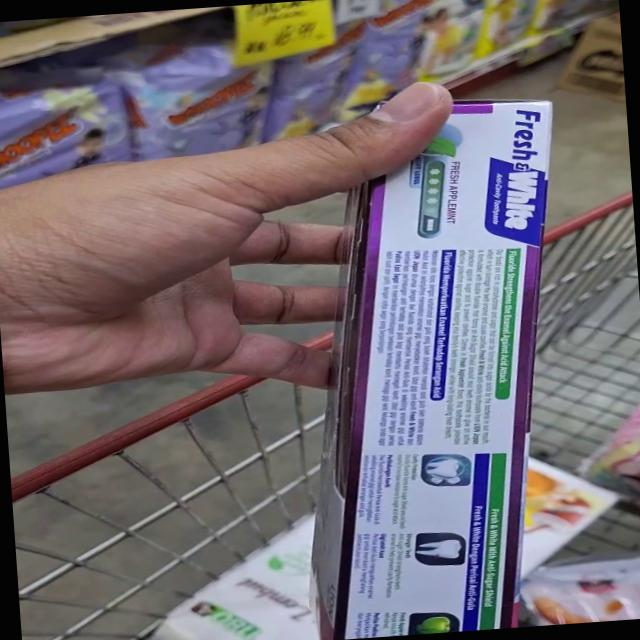Tisu: (89, 530, 311, 640)
Ubat Gigi: (346, 85, 596, 366), (298, 304, 560, 572), (304, 458, 521, 640)
